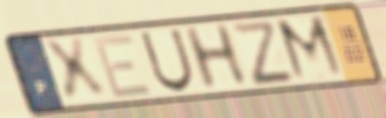E: (90, 32, 156, 101)
H: (179, 21, 252, 94)
M: (272, 13, 350, 85)
U: (137, 27, 197, 95)
X: (40, 35, 112, 105)
Z: (227, 19, 298, 88)
